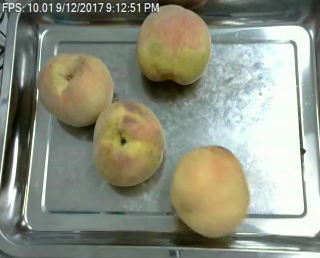Peach: (171, 144, 250, 239), (92, 99, 165, 187), (134, 4, 209, 84), (36, 50, 114, 126)
